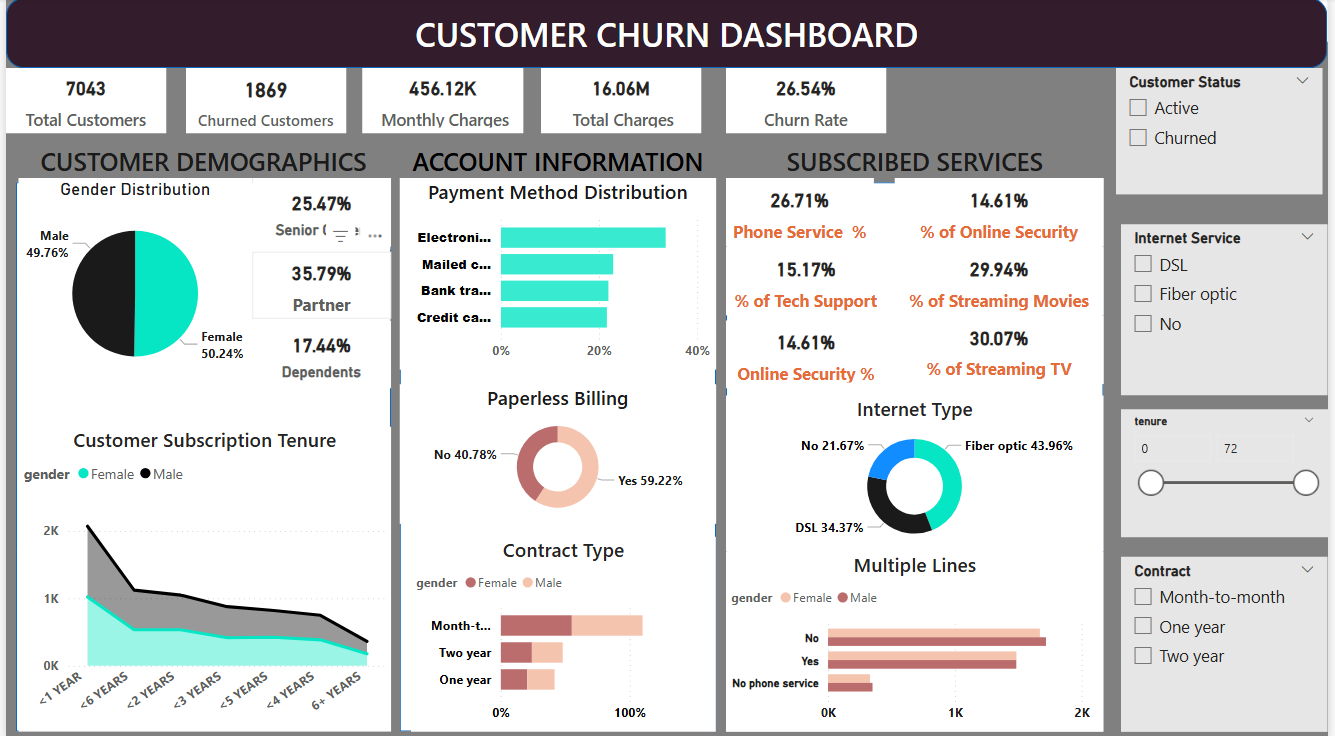

Layout of this report page (visuals, bound fields, positions):
{"tool":"powerbi","page":{"name":"Page 1","canvas":[1280,720],"ordinal":0},"visuals":[{"type":"textbox","box":[9.6,0,1270.7,42.5],"z":0},{"type":"shape","box":[0,0,1279.5,67.8],"z":1000},{"type":"card","fields":{"Values":["Churn_dataset.Total_Customers"]},"box":[0,67.8,154.9,62.9],"z":2000},{"type":"card","fields":{"Values":["Churn_dataset.Churned_Customers"]},"box":[174.3,67.8,154.9,62.9],"z":3000},{"type":"card","fields":{"Values":["Sum(Churn_dataset.MonthlyCharges)"]},"box":[345,67.8,156.2,62.9],"z":4000},{"type":"card","fields":{"Values":["Sum(Churn_dataset.TotalCharges)"]},"box":[518.1,67.8,154.9,62.9],"z":5000},{"type":"card","fields":{"Values":["Churn_dataset.Churn_Rate"]},"box":[697.2,67.8,154.9,62.9],"z":6000},{"type":"shape","title":"CUSTOMER DEMOGRAPHICS","box":[9.7,141.6,363.1,568.9],"z":7000},{"type":"pieChart","title":" Gender Distribution","fields":{"Category":["Churn_dataset.gender"],"Y":["Churn_dataset.Churned_Customers"]},"box":[12.1,174.3,226.4,203.4],"z":8000},{"type":"card","fields":{"Values":["Churn_dataset.Senior Citizen"]},"box":[238.5,174.3,134.4,66.6],"z":9000},{"type":"card","fields":{"Values":["Churn_dataset.% of partner"]},"box":[238.5,245.7,134.4,65.4],"z":10000},{"type":"card","fields":{"Values":["Churn_dataset.% of Dependents"]},"box":[238.5,312.3,134.4,65.4],"z":11000},{"type":"stackedAreaChart","title":"Customer Subscription Tenure","fields":{"Category":["Churn_dataset.Tenure_in_Years"],"Y":["CountNonNull(Churn_dataset.customerID)"],"Series":["Churn_dataset.gender"]},"box":[12.1,415.2,360.7,295.4],"z":12000},{"type":"shape","title":"ACCOUNT INFORMATION","box":[381.3,141.6,306.3,568.9],"z":13000},{"type":"barChart","title":" Payment Method Distribution","fields":{"Category":["Churn_dataset.PaymentMethod"],"Y":["Churn_dataset.% of Payment Method"]},"box":[381.3,174.3,306.3,185.2],"z":14000},{"type":"donutChart","title":"Paperless Billing","fields":{"Category":["Churn_dataset.PaperlessBilling"],"Y":["CountNonNull(Churn_dataset.PaperlessBilling)"]},"box":[381.3,374,306.3,135.6],"z":15000},{"type":"barChart","title":" Contract Type","fields":{"Category":["Churn_dataset.Contract"],"Y":["Churn_dataset.Contract %"],"Series":["Churn_dataset.gender"]},"box":[392.2,521.7,295.4,188.8],"z":16000},{"type":"shape","title":"SUBSCRIBED SERVICES","box":[697.2,141.6,365.6,568.9],"z":17000},{"type":"card","fields":{"Values":["Churn_dataset.% of Phone Service"]},"box":[697.2,174.3,142.8,66.6],"z":18000},{"type":"card","fields":{"Values":["Churn_dataset.% of Tech Support"]},"box":[697.2,240.9,154.9,66.6],"z":19000},{"type":"card","fields":{"Values":["Churn_dataset.% of Online Security"]},"box":[697.2,312.3,154.9,65.4],"z":20000},{"type":"card","fields":{"Values":["Churn_dataset.% of Online Security"]},"box":[860.7,174.3,202.2,66.6],"z":21000},{"type":"card","fields":{"Values":["Churn_dataset.% of Streaming Movies"]},"box":[860.7,240.9,202.2,66.6],"z":22000},{"type":"card","fields":{"Values":["Churn_dataset.% of Streaming TV"]},"box":[860.7,307.5,202.2,66.6],"z":23000},{"type":"donutChart","title":"Internet Type","fields":{"Category":["Churn_dataset.InternetService"],"Y":["CountNonNull(Churn_dataset.customerID)"]},"box":[697.2,384.9,365.6,151.3],"z":24000},{"type":"clusteredBarChart","title":"Multiple Lines","fields":{"Category":["Churn_dataset.MultipleLines"],"Y":["CountNonNull(Churn_dataset.customerID)"],"Series":["Churn_dataset.gender"]},"box":[697.2,536.3,365.6,174.3],"z":25000},{"type":"slicer","fields":{"Values":["Churn_dataset.Customer_Status"]},"box":[1074.9,67.8,199.7,122.3],"z":26000},{"type":"slicer","fields":{"Values":["Churn_dataset.InternetService"]},"box":[1079.8,219.1,199.7,165.8],"z":27000},{"type":"slicer","fields":{"Values":["Churn_dataset.tenure"]},"box":[1079.8,398.3,199.7,123.5],"z":28000},{"type":"slicer","fields":{"Values":["Churn_dataset.Contract"]},"box":[1079.8,541.1,199.7,169.5],"z":29000}]}

Visuals, with their boxes in screenshot pixels (x1, y1, x2, y2), scaled from the page's 1280x720 canvas onto the 1335x736 screenshot:
textbox: rect(10, 0, 1334, 43)
shape: rect(0, 0, 1334, 69)
card - Churn_dataset.Total_Customers: rect(0, 69, 162, 134)
card - Churn_dataset.Churned_Customers: rect(182, 69, 343, 134)
card - Sum(Churn_dataset.MonthlyCharges): rect(360, 69, 523, 134)
card - Sum(Churn_dataset.TotalCharges): rect(540, 69, 702, 134)
card - Churn_dataset.Churn_Rate: rect(727, 69, 889, 134)
"CUSTOMER DEMOGRAPHICS" shape: rect(10, 145, 389, 726)
" Gender Distribution" pieChart: rect(13, 178, 249, 386)
card - Churn_dataset.Senior Citizen: rect(249, 178, 389, 246)
card - Churn_dataset.% of partner: rect(249, 251, 389, 318)
card - Churn_dataset.% of Dependents: rect(249, 319, 389, 386)
"Customer Subscription Tenure" stackedAreaChart: rect(13, 424, 389, 726)
"ACCOUNT INFORMATION" shape: rect(398, 145, 717, 726)
" Payment Method Distribution" barChart: rect(398, 178, 717, 367)
"Paperless Billing" donutChart: rect(398, 382, 717, 521)
" Contract Type" barChart: rect(409, 533, 717, 726)
"SUBSCRIBED SERVICES" shape: rect(727, 145, 1108, 726)
card - Churn_dataset.% of Phone Service: rect(727, 178, 876, 246)
card - Churn_dataset.% of Tech Support: rect(727, 246, 889, 314)
card - Churn_dataset.% of Online Security: rect(727, 319, 889, 386)
card - Churn_dataset.% of Online Security: rect(898, 178, 1109, 246)
card - Churn_dataset.% of Streaming Movies: rect(898, 246, 1109, 314)
card - Churn_dataset.% of Streaming TV: rect(898, 314, 1109, 382)
"Internet Type" donutChart: rect(727, 393, 1108, 548)
"Multiple Lines" clusteredBarChart: rect(727, 548, 1108, 726)
slicer - Churn_dataset.Customer_Status: rect(1121, 69, 1329, 194)
slicer - Churn_dataset.InternetService: rect(1126, 224, 1334, 393)
slicer - Churn_dataset.tenure: rect(1126, 407, 1334, 533)
slicer - Churn_dataset.Contract: rect(1126, 553, 1334, 726)
